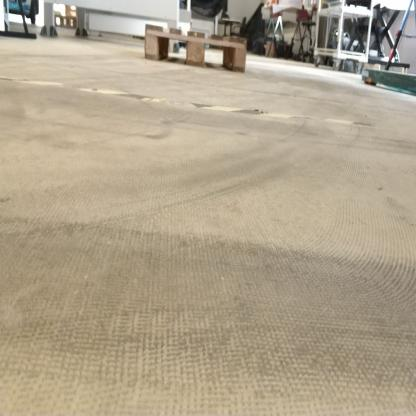BoxFace: (142, 18, 250, 75)
